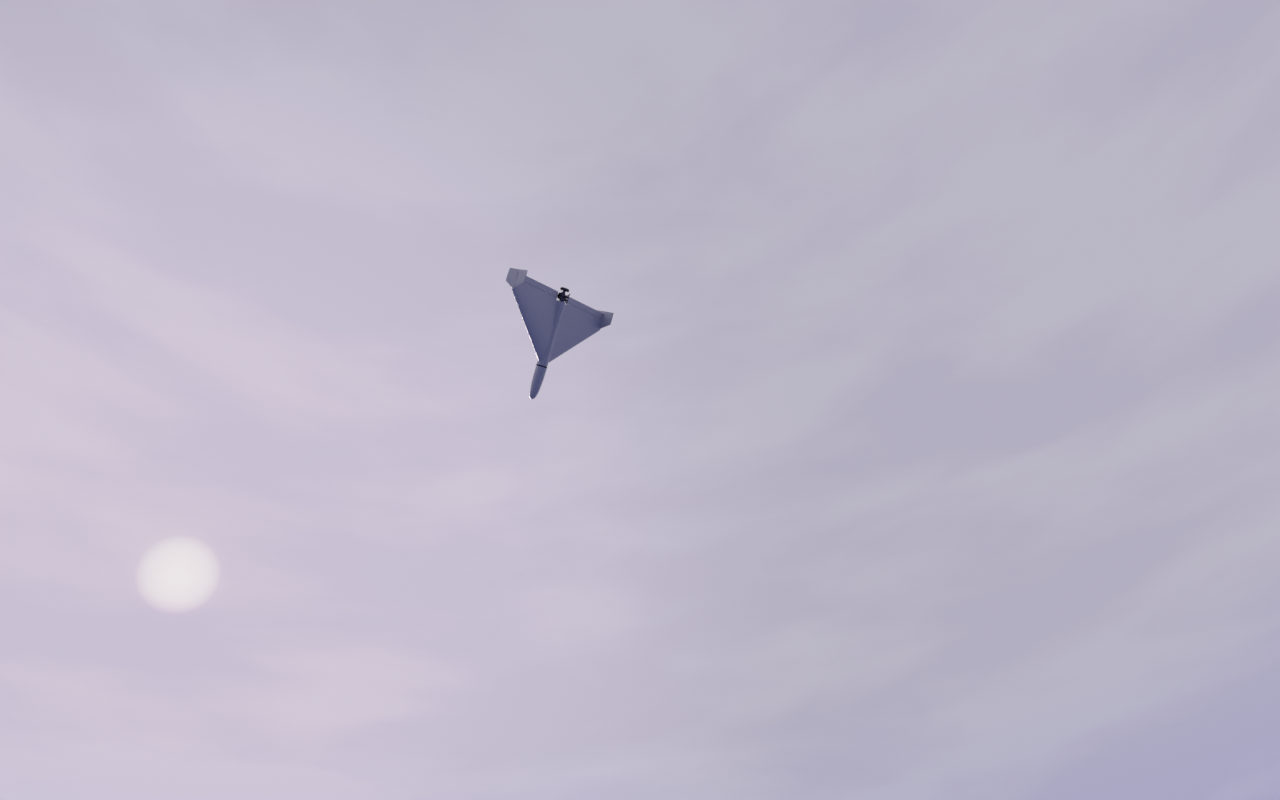shahed: (506, 268, 616, 401)
